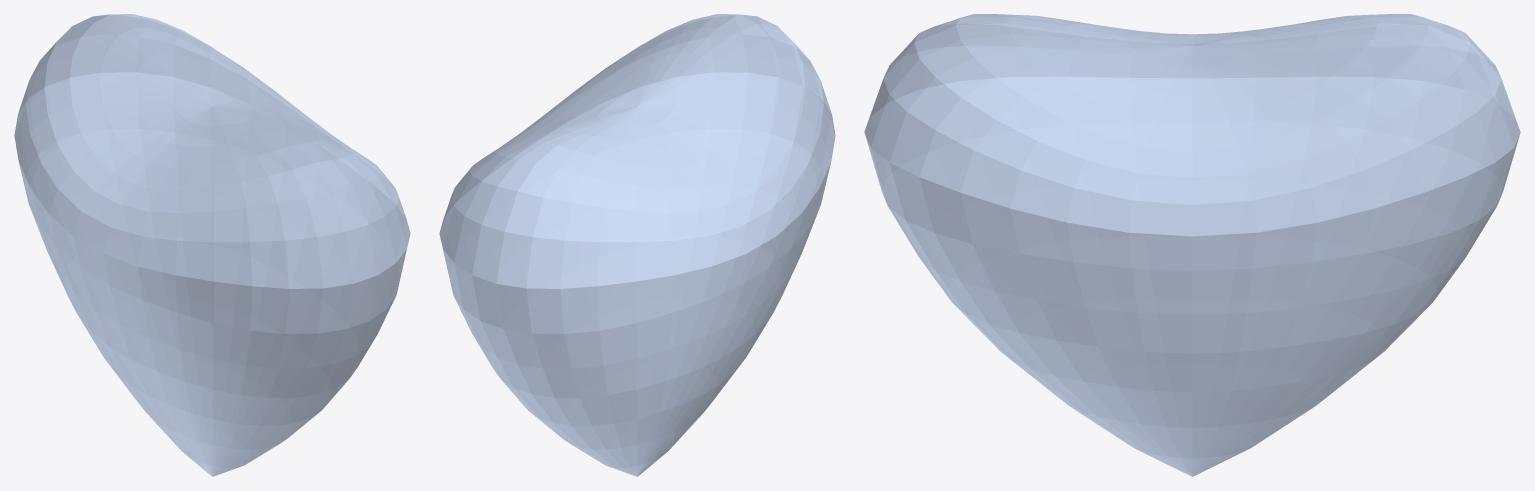
File: heart.fbx
3 renders of one model, left to right at view 1: azimuth 30°, elevation 25°; view 2: azimuth 150°, elevation 25°; view 3: azimuth 270°, elevation 25°, orthographic. The views are drawn at different scales.
Visible parts, largest first — view 1: Sphere; view 2: Sphere; view 3: Sphere.
Boxes of the visible parts, bbox=[...] form: Sphere: bbox=[14, 14, 410, 476]; Sphere: bbox=[439, 14, 835, 476]; Sphere: bbox=[864, 14, 1520, 476].
Size of the model in its own units: 37.29 by 49.96 by 65.49.
